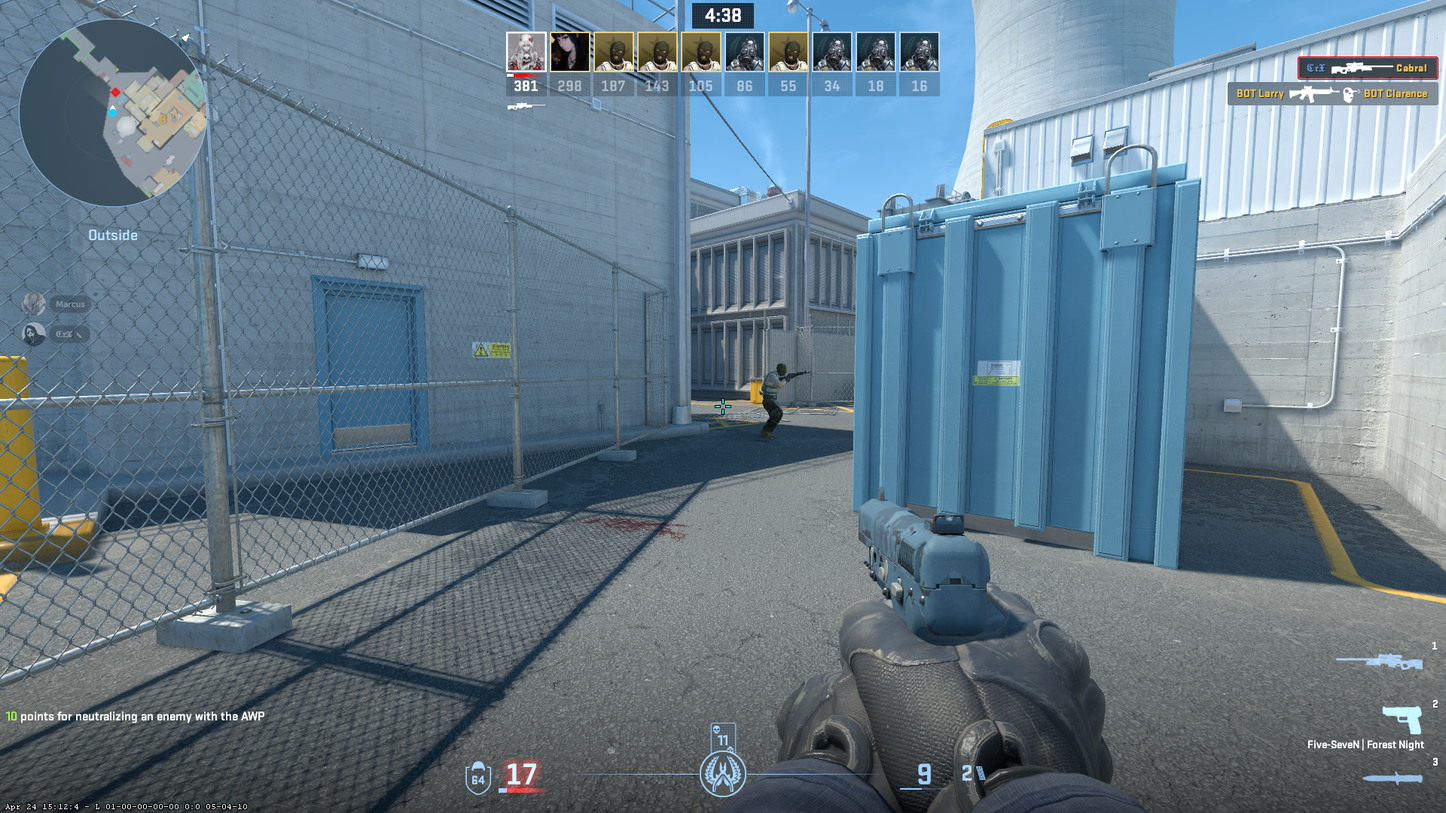T: (761, 363, 788, 439)
